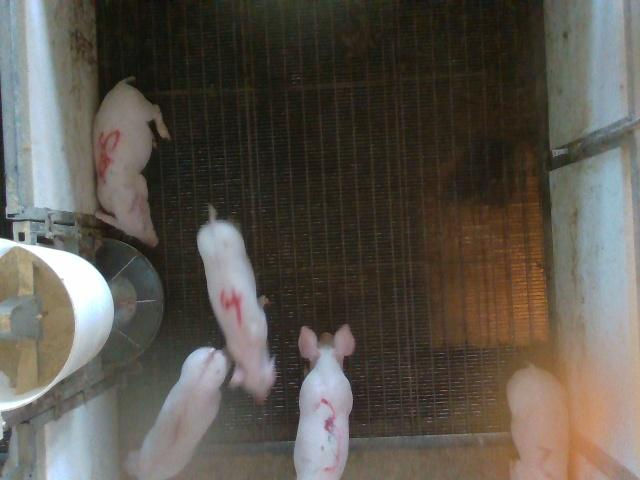pig-1: (125, 348, 229, 479)
pig-3: (294, 325, 355, 479)
pig-4: (198, 208, 275, 402)
pig-5: (94, 76, 170, 246)
